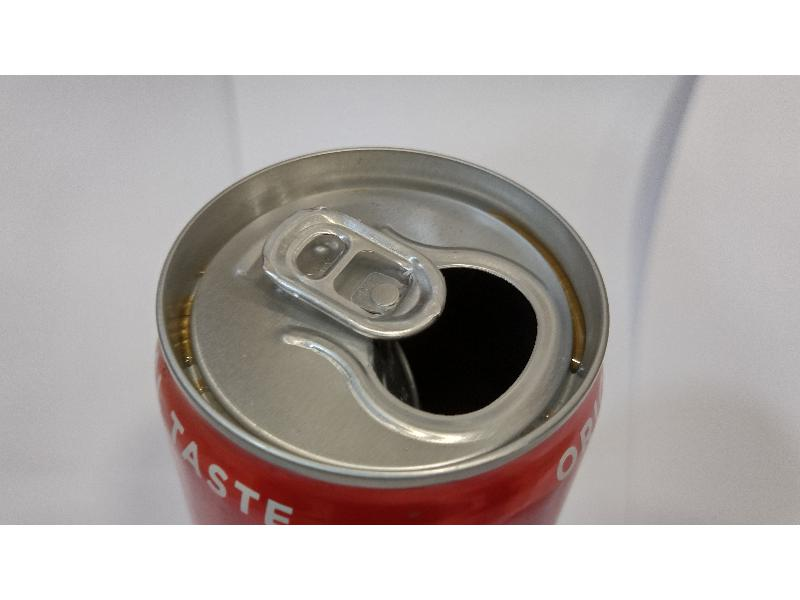can: (145, 136, 620, 524)
